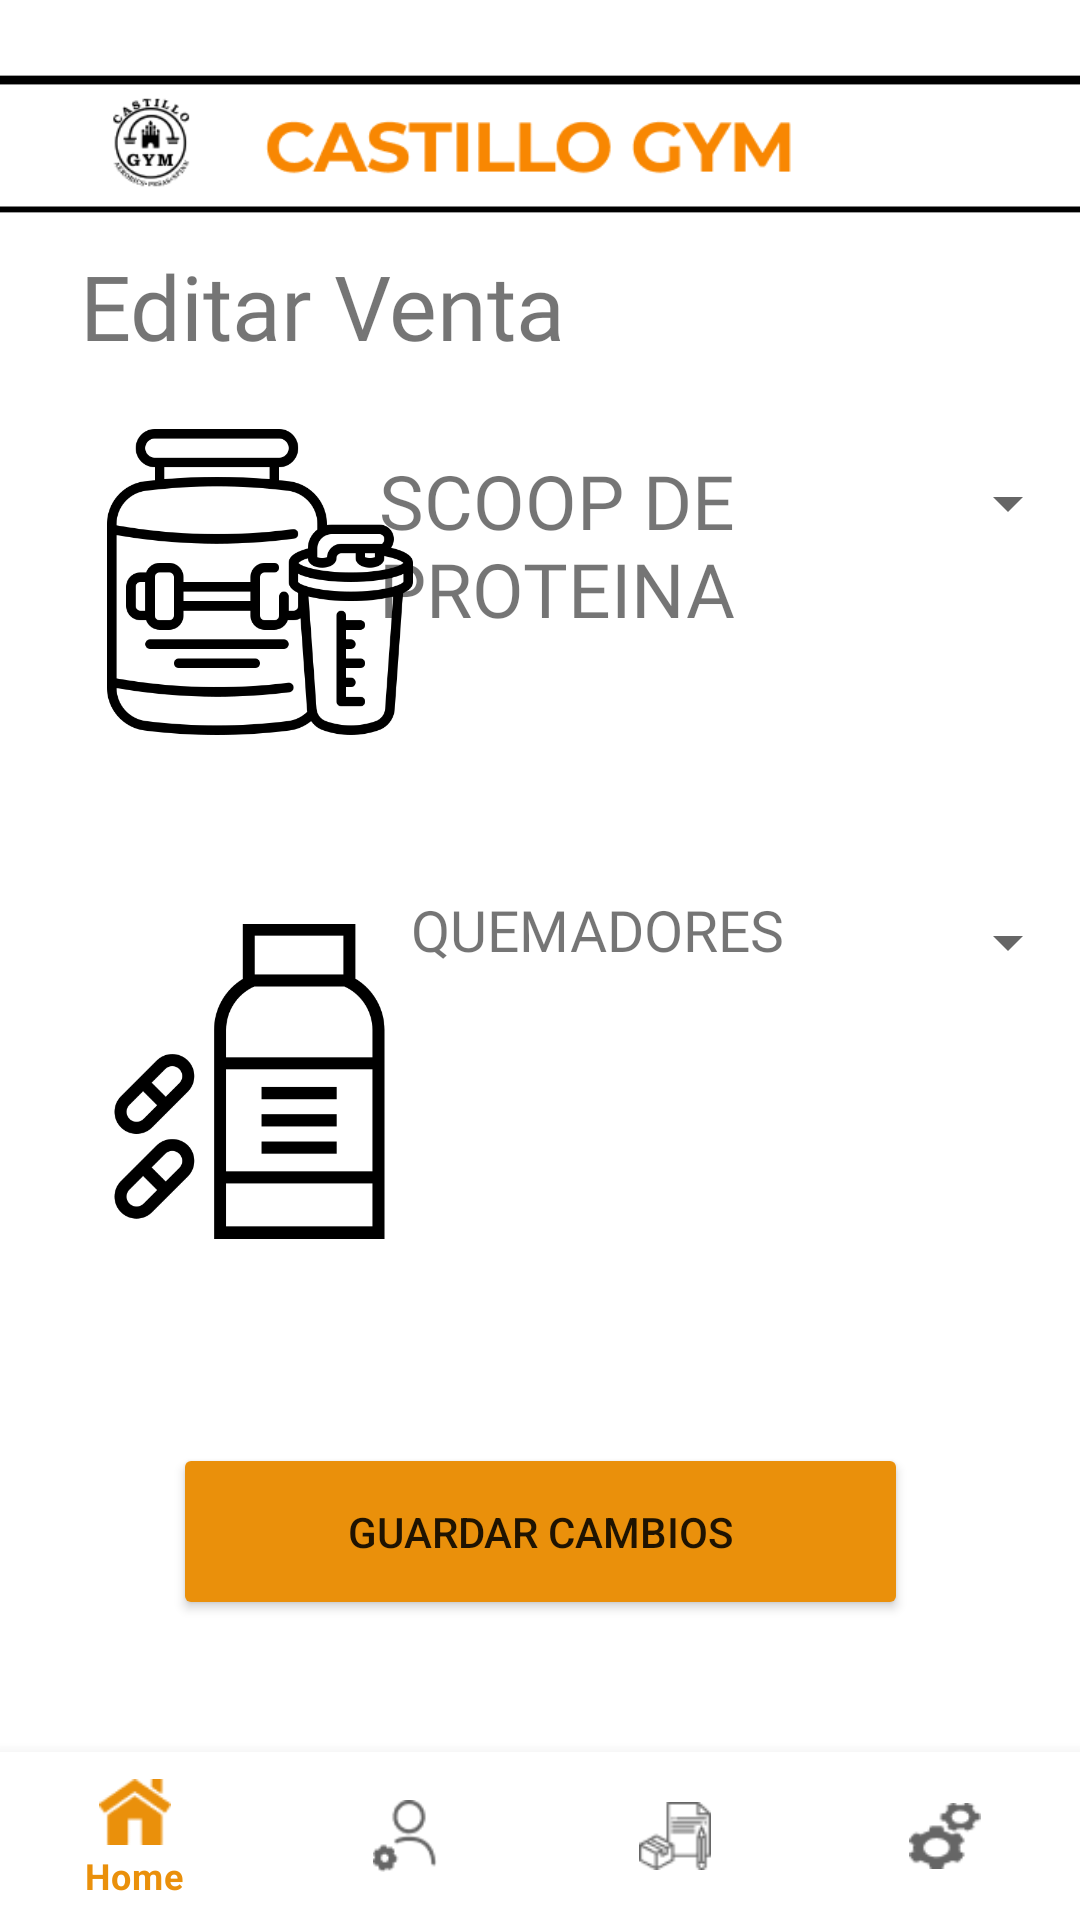

Icons on this 1080px×1920px Android screen, each with its box as (x1=x1, y1=y1, x2=x2, y2=y2):
bote pastillas: (x1=114, y1=924, x2=385, y2=1239)
